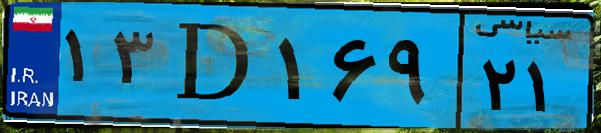1: (270, 28, 330, 110), (57, 26, 110, 100), (525, 38, 570, 115)
2: (475, 38, 525, 113)
3: (110, 28, 158, 98)
6: (330, 28, 385, 110)
9: (385, 28, 445, 110)
D: (158, 12, 270, 120)
